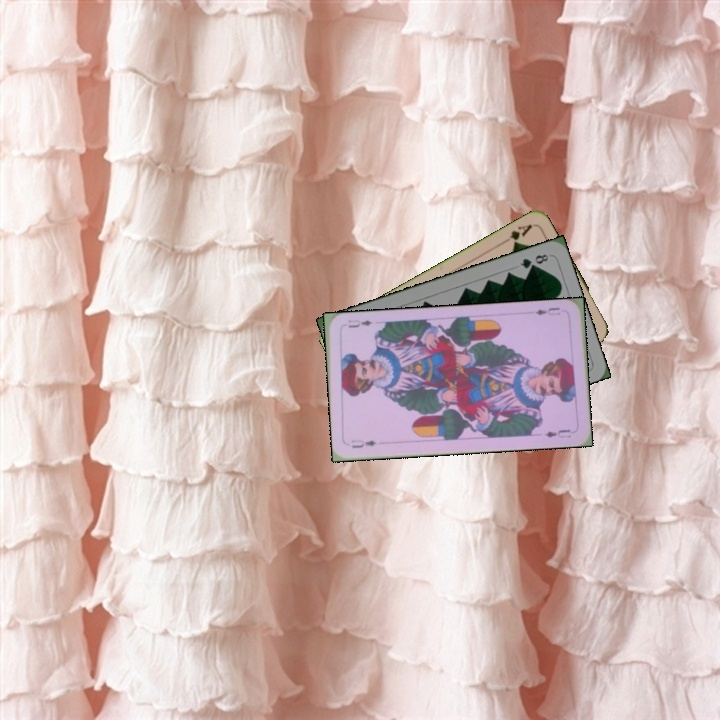EU: (531, 303, 563, 318), (347, 435, 379, 450)
G8: (516, 250, 551, 271)
GA: (498, 220, 535, 248)
